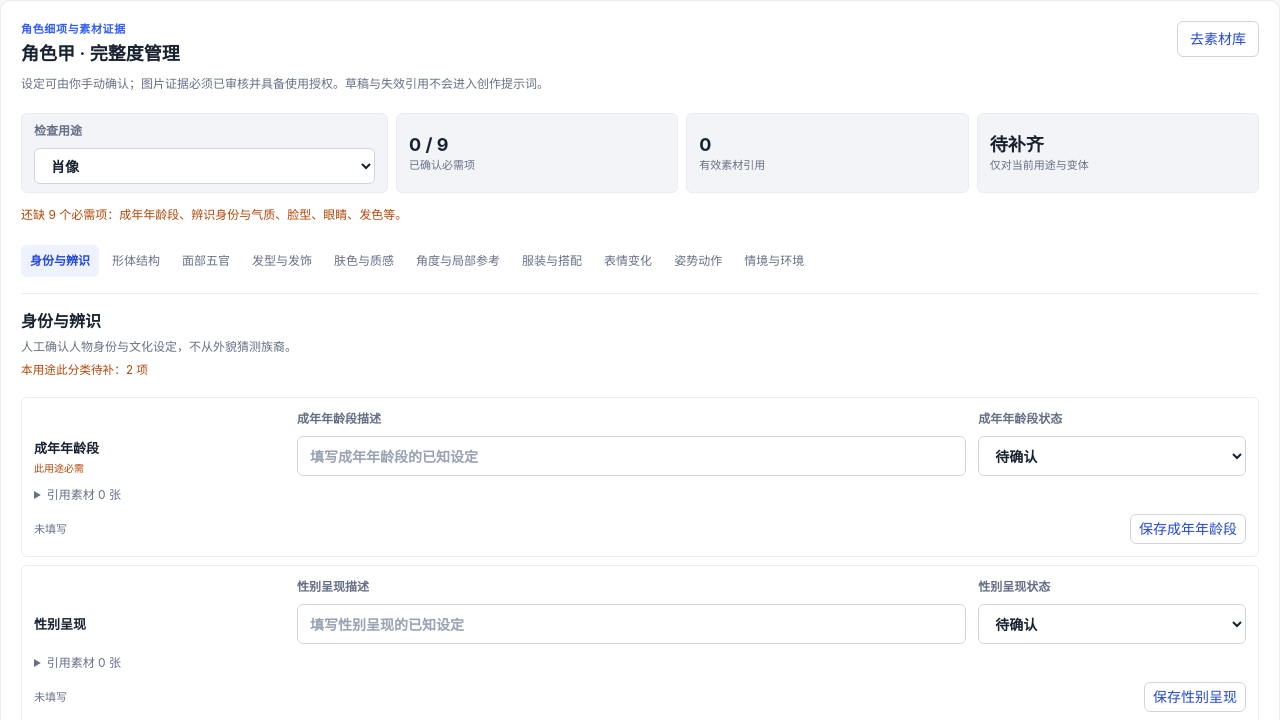
Test: 切换造型时不把上一变体未保存的输入带到下一变体
Click the button "服装与搭配" at (552, 261), box [513,245,591,277]
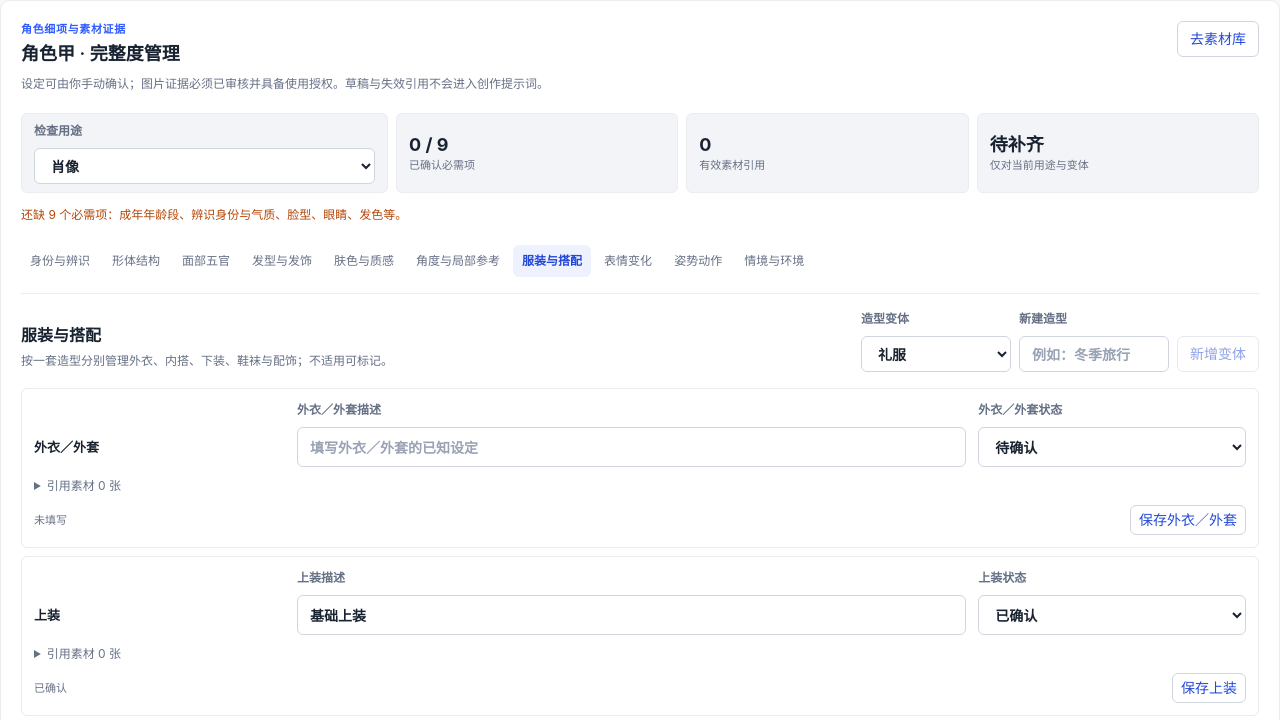
Result: the field labelled "上装描述" holds "基础上装"
Replace the text in the field labelled "上装描述" with "未保存的礼服" at (632, 615), box [297,595,966,635]
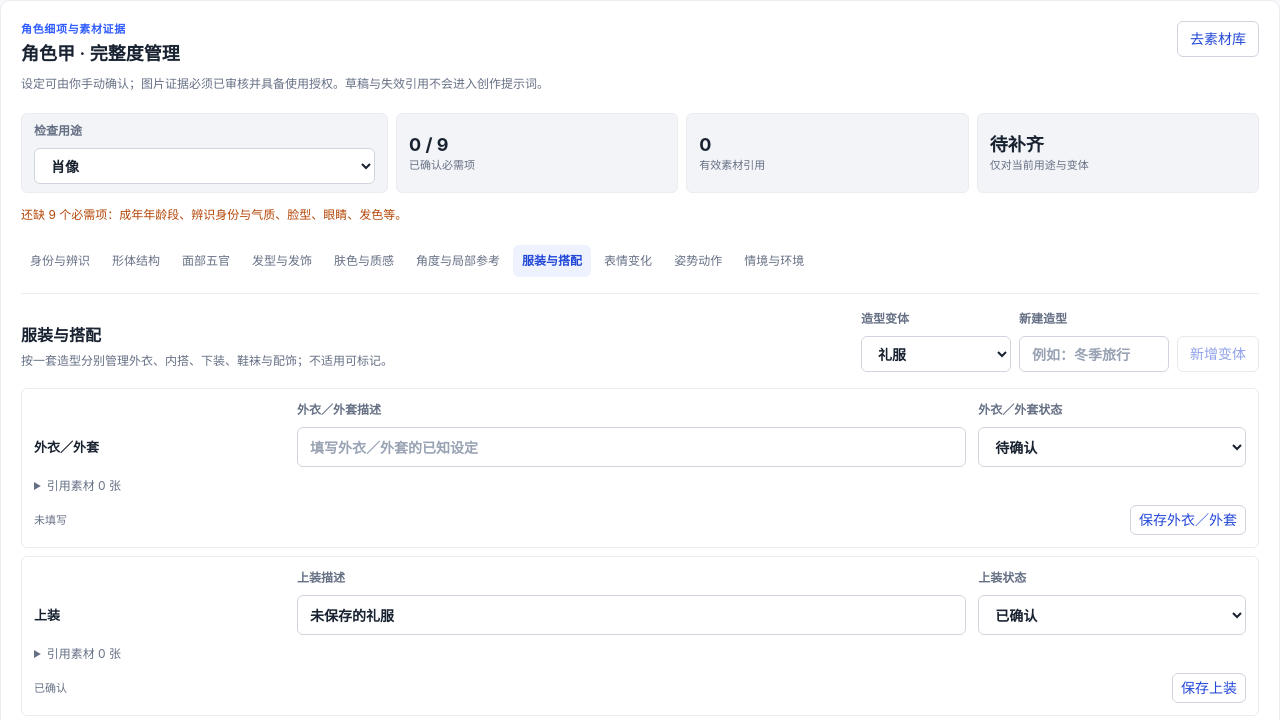
Select "便装" in the dropdown labelled "造型变体" at (936, 354), box [861,336,1011,372]
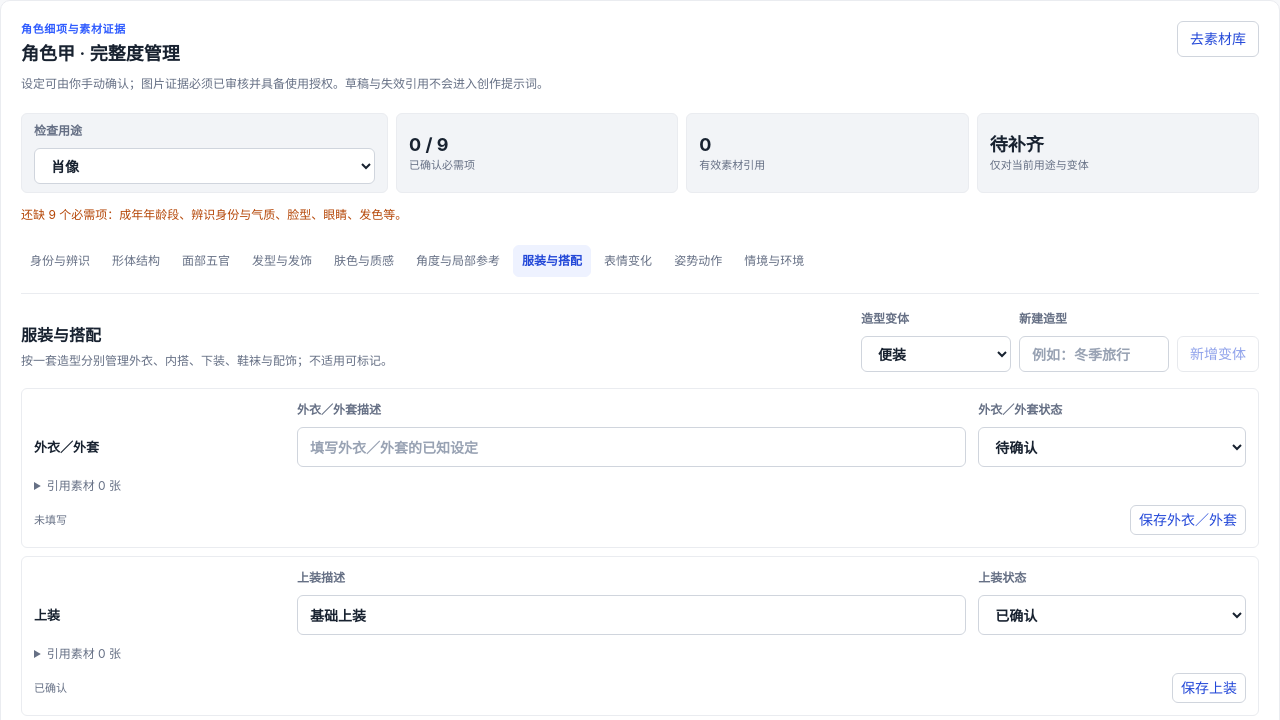
Result: the field labelled "上装描述" holds "基础上装" at [297,595,966,635]
